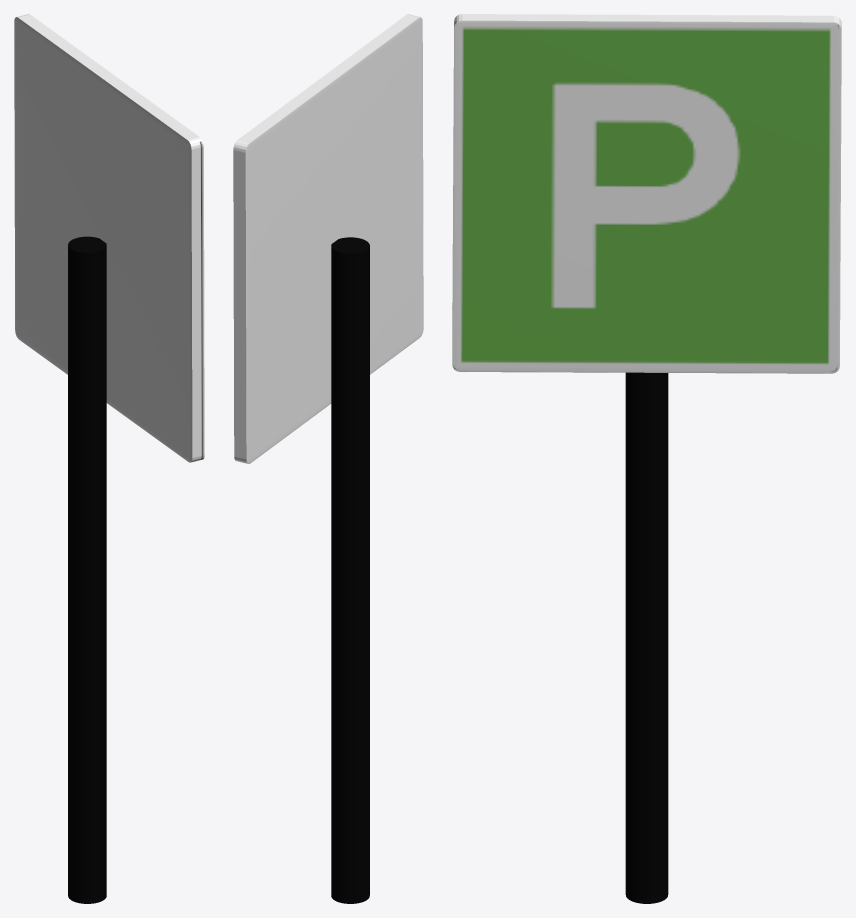
The model's file is Sign_Park_Green.fbx.
3 renders of one model, left to right at view 1: azimuth 30°, elevation 25°; view 2: azimuth 150°, elevation 25°; view 3: azimuth 270°, elevation 25°, orthographic. The views are drawn at different scales.
Visible parts, largest first — view 1: Sign_Park, Pole; view 2: Sign_Park, Pole; view 3: Sign_Park, Pole.
Boxes of the visible parts, <box> form: Sign_Park: <box>14,14,204,462</box>; Pole: <box>68,236,106,903</box>; Sign_Park: <box>233,14,423,463</box>; Pole: <box>331,237,369,903</box>; Sign_Park: <box>452,14,841,373</box>; Pole: <box>625,372,668,903</box>.
Size of the model in its own units: 6.49 by 111 by 44.22.
